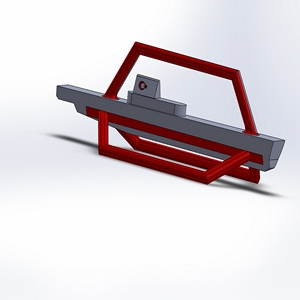submarine: (39, 19, 300, 195)
